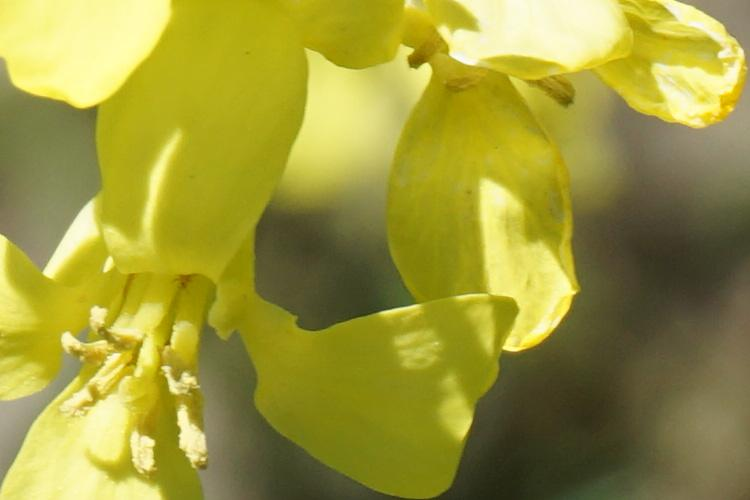yellow: (34, 66, 498, 500), (350, 30, 743, 328)
